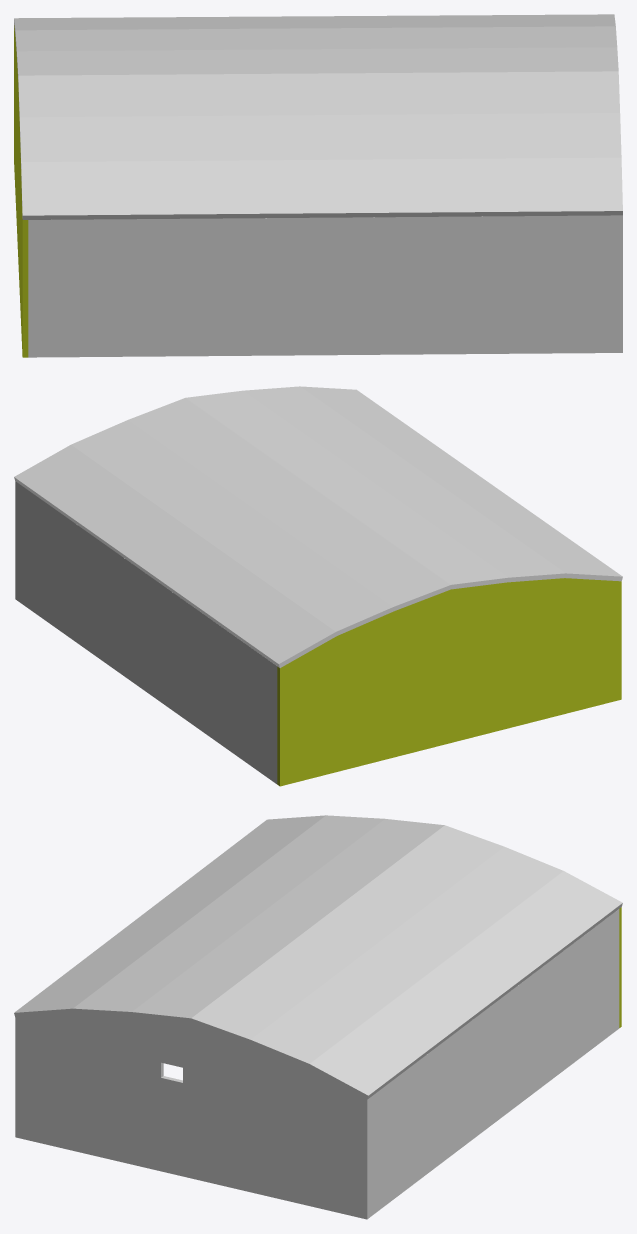
Rendered from Warehouse_Collider.fbx.
3 renders of one model, top to bottom at view 1: azimuth 30°, elevation 25°; view 2: azimuth 150°, elevation 25°; view 3: azimuth 270°, elevation 25°, orthographic. The views are drawn at different scales.
Parts seen in each view (by area): view 1: Warehouse_Collider; view 2: Warehouse_Collider; view 3: Warehouse_Collider.
Boxes of the visible parts, x1,y1,x2,y2 form: Warehouse_Collider: (14,14,622,357); Warehouse_Collider: (14,386,622,786); Warehouse_Collider: (14,815,622,1219).
Size of the model in its own units: 4952 by 1339 by 4615.
